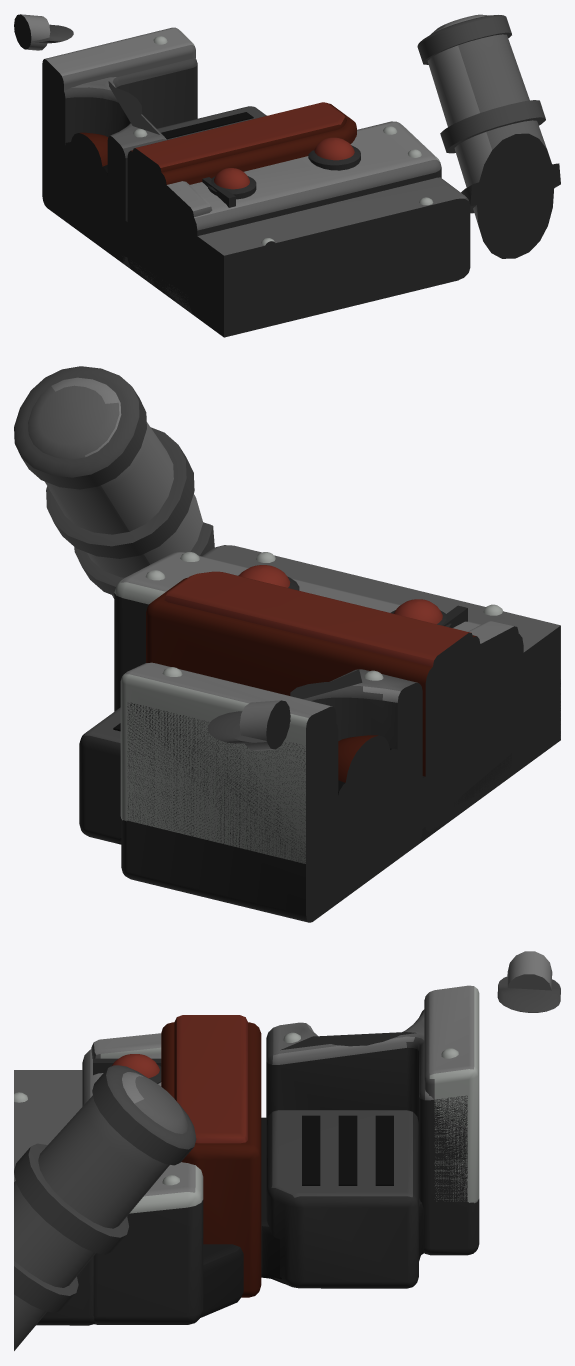
The model's file is core_machine_tr.glb.
3 views of the same model, one above another, from view 1: azimuth 30°, elevation 25°; view 2: azimuth 150°, elevation 25°; view 3: azimuth 270°, elevation 25° (orthographic). The views are drawn at different scales.
Parts seen in each view (by area): view 1: arm_step_r.001, post_r.001, housing_r.001, deck_r.001, chassis.001, strip_r.001, brow_r.001, strip_panel_r.001, post_band1_r.001, post_band0_r.001, post_cap_r.001, deck_panel_r.001 (+10 smaller); view 2: housing_r.001, brow_r.001, strip_r.001, post_r.001, strip_panel_r.001, deck_r.001, arm_step_r.001, chassis.001, post_cap_r.001, post_band1_r.001, step_r.001, pipe_r.001 (+7 smaller); view 3: step_r.001, housing_r.001, post_r.001, deck_r.001, strip_r.001, brow_r.001, strip_panel_r.001, arm_step_r.001, chassis.001, post_cap_r.001, post_band1_r.001, post_band0_r.001 (+7 smaller).
Boxes of the visible parts, box(x1,y1,x2,y2) form: arm_step_r.001: box(189, 177, 470, 337); post_r.001: box(427, 14, 554, 258); housing_r.001: box(42, 58, 197, 262); deck_r.001: box(150, 121, 441, 313); chassis.001: box(45, 165, 465, 336); strip_r.001: box(127, 103, 356, 290); brow_r.001: box(42, 27, 195, 180); strip_panel_r.001: box(132, 102, 346, 181); post_band1_r.001: box(440, 100, 545, 153); post_band0_r.001: box(461, 163, 560, 213); post_cap_r.001: box(417, 15, 511, 64); deck_panel_r.001: box(158, 180, 212, 224); housing_r.001: box(121, 669, 422, 922); brow_r.001: box(120, 662, 336, 870); strip_r.001: box(146, 577, 480, 831); post_r.001: box(28, 377, 203, 598); strip_panel_r.001: box(164, 571, 472, 678); deck_r.001: box(114, 552, 523, 809); arm_step_r.001: box(202, 545, 560, 770); chassis.001: box(116, 710, 560, 919); post_cap_r.001: box(14, 366, 146, 489); post_band1_r.001: box(46, 427, 194, 558); step_r.001: box(79, 707, 121, 844); pipe_r.001: box(239, 700, 290, 750); step_r.001: box(266, 1110, 418, 1288); housing_r.001: box(266, 1009, 479, 1255); post_r.001: box(14, 1072, 187, 1350); deck_r.001: box(82, 1049, 203, 1324); strip_r.001: box(161, 1022, 261, 1297); brow_r.001: box(424, 985, 479, 1203); strip_panel_r.001: box(174, 1015, 247, 1143); arm_step_r.001: box(14, 1070, 94, 1325); chassis.001: box(200, 1117, 424, 1317); post_cap_r.001: box(92, 1065, 196, 1165); post_band1_r.001: box(14, 1143, 128, 1254); post_band0_r.001: box(14, 1261, 78, 1312).
Bounding box in the file's own units: 18.95 × 11.85 × 20.8.
